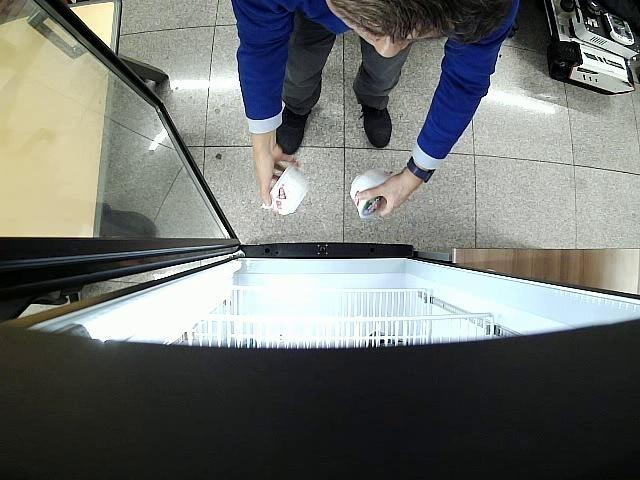09_yukGaeJang: (262, 165, 310, 216), (350, 169, 395, 220)
